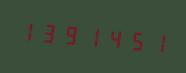five: (122, 22, 142, 57)
four: (101, 20, 121, 55)
nine: (59, 17, 79, 51)
one: (17, 13, 37, 48), (80, 18, 100, 53), (143, 24, 163, 59)
three: (38, 15, 58, 49)
